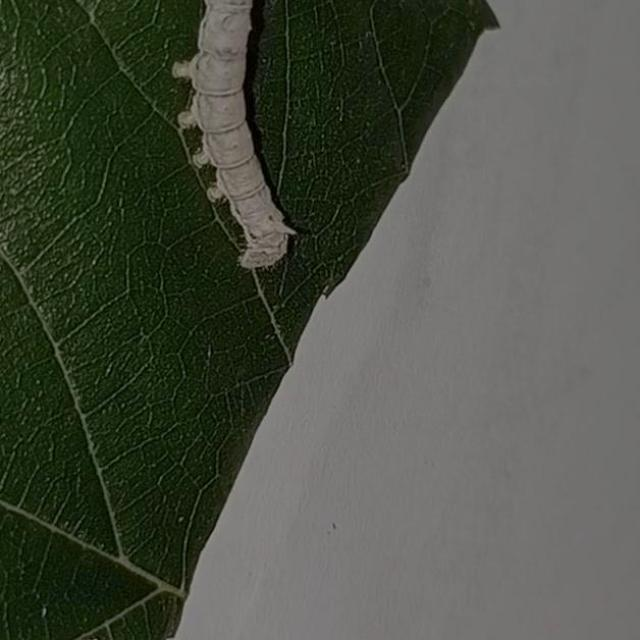Healthy: (143, 0, 349, 290)
